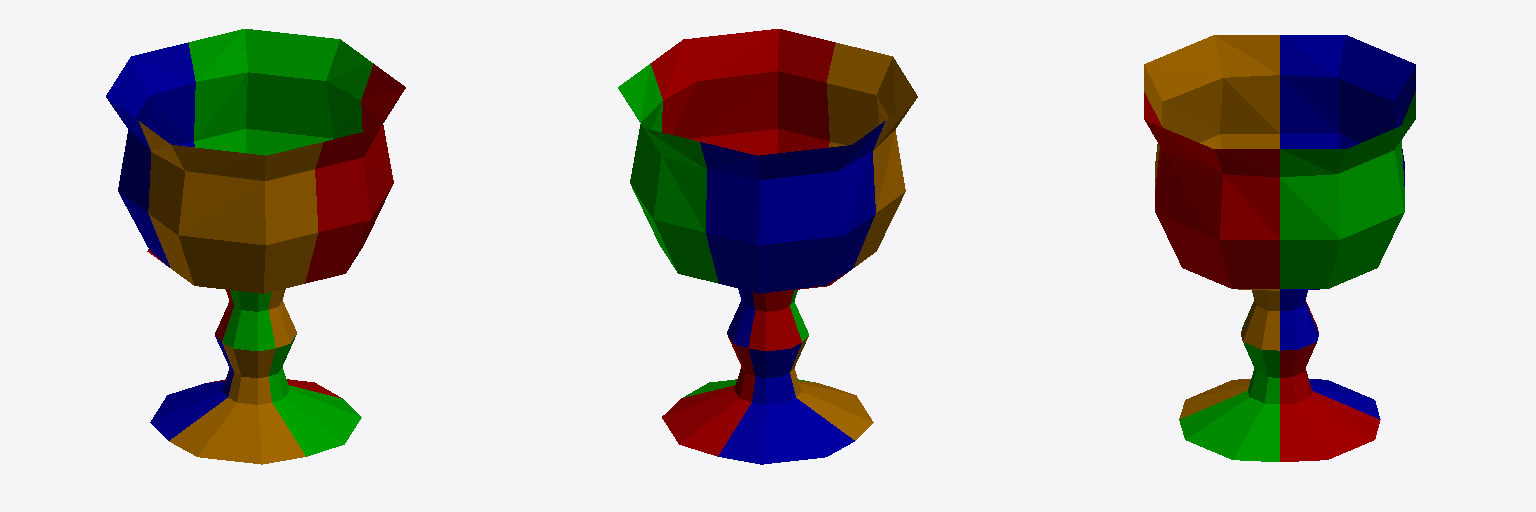
File: goblet.obj
3 renders of one model, left to right at view 1: azimuth 30°, elevation 25°; view 2: azimuth 150°, elevation 25°; view 3: azimuth 270°, elevation 25°, orthographic.
Visible parts, largest first — view 1: Grid; view 2: Grid; view 3: Grid.
Boxes of the visible parts, box(x1,y1,x2,y2) form: Grid: box(106, 29, 405, 464); Grid: box(618, 29, 917, 464); Grid: box(1144, 35, 1415, 461).
Bounding box in the file's own units: 2.69 × 3.59 × 2.69.